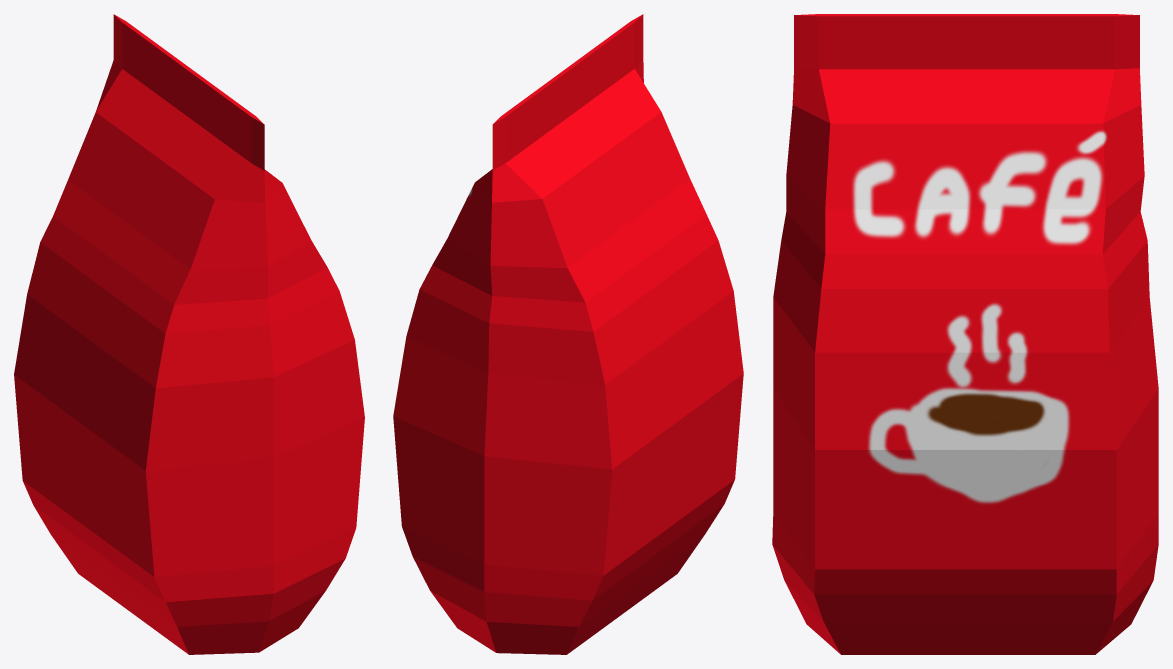
The model's file is pacote-de-cafe.fbx.
The picture shows the model from 3 angles, left to right: view 1: azimuth 30°, elevation 25°; view 2: azimuth 150°, elevation 25°; view 3: azimuth 270°, elevation 25°; orthographic projection. The views are drawn at different scales.
Parts seen in each view (by area): view 1: Cube; view 2: Cube; view 3: Cube.
Part boxes in pixels (bbox=[...]): Cube: bbox=[14, 14, 364, 654]; Cube: bbox=[393, 14, 743, 654]; Cube: bbox=[772, 14, 1158, 654].
Size of the model in its own units: 197 by 458 by 263.
